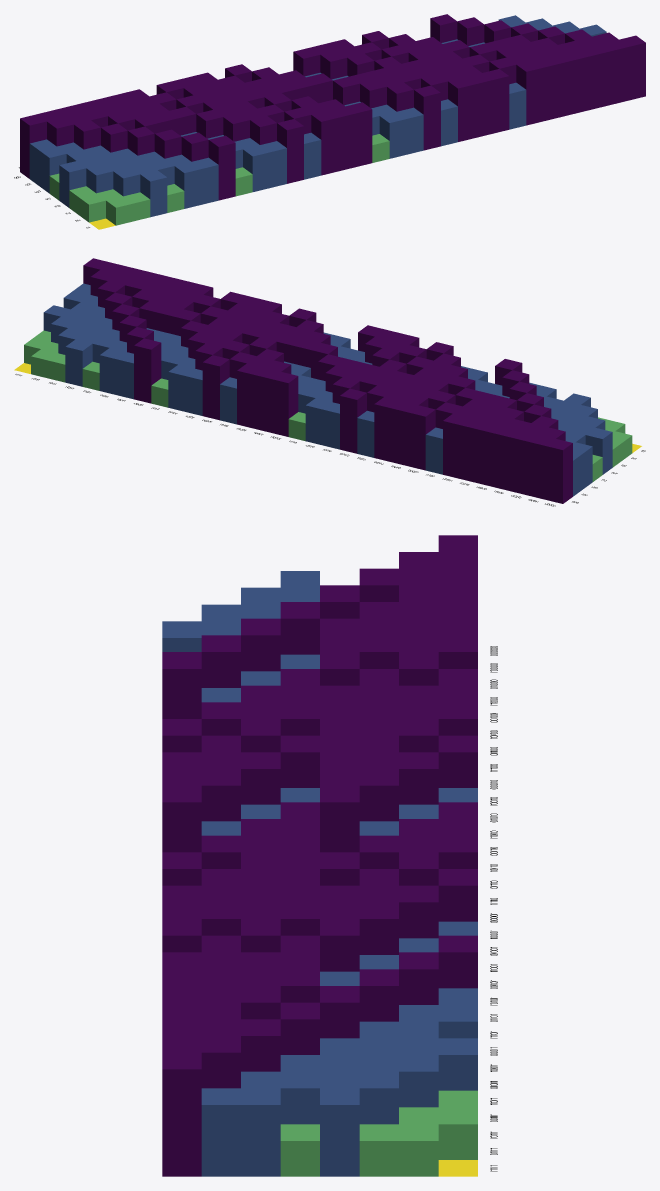
The picture shows the model from 3 angles, top to bottom: view 1: azimuth 30°, elevation 25°; view 2: azimuth 150°, elevation 25°; view 3: azimuth 270°, elevation 25°; orthographic projection. The views are drawn at different scales.
Visible parts, largest first — view 1: Object(14,8)[length_3], Object(8,8)[length_3], Object(26,8)[length_3], Object(20,8)[length_3], Object(12,8)[length_3], Object(22,8)[length_3], Object(15,8)[length_3], Object(27,8)[length_3], Object(24,8)[length_3], Object(29,8)[length_3], Object(31,8)[length_3], Object(16,8)[length_3] (+64 smaller); view 2: Object(1,1)[length_3], Object(17,1)[length_3], Object(25,1)[length_3], Object(9,1)[length_3], Object(21,1)[length_3], Object(13,1)[length_3], Object(10,1)[length_3], Object(3,1)[length_3], Object(18,1)[length_3], Object(19,1)[length_3], Object(2,1)[length_3], Object(4,1)[length_3] (+53 smaller); view 3: Object(32,8)[length_3], Object(32,4)[length_2], Object(32,6)[length_2], Object(32,7)[length_2], Object(16,4)[length_3], Object(16,8)[length_3], Object(8,8)[length_3], Object(6,6)[length_3], Object(22,2)[length_3], Object(25,1)[length_3], Object(31,3)[length_2], Object(31,5)[length_2] (+49 smaller).
Boxes of the visible parts, x1,y1,x2,y2 form: Object(14,8)[length_3]: [311, 110, 338, 175]; Object(8,8)[length_3]: [208, 135, 235, 200]; Object(26,8)[length_3]: [516, 60, 543, 125]; Object(20,8)[length_3]: [414, 85, 440, 150]; Object(12,8)[length_3]: [277, 119, 303, 183]; Object(22,8)[length_3]: [448, 77, 474, 141]; Object(15,8)[length_3]: [328, 106, 355, 171]; Object(27,8)[length_3]: [534, 56, 560, 121]; Object(24,8)[length_3]: [482, 69, 509, 133]; Object(29,8)[length_3]: [568, 48, 594, 112]; Object(31,8)[length_3]: [602, 39, 628, 104]; Object(16,8)[length_3]: [346, 102, 372, 167]; Object(1,1)[length_3]: [546, 439, 572, 503]; Object(17,1)[length_3]: [271, 372, 298, 436]; Object(25,1)[length_3]: [134, 338, 161, 403]; Object(9,1)[length_3]: [408, 405, 435, 470]; Object(21,1)[length_3]: [202, 355, 229, 420]; Object(13,1)[length_3]: [340, 388, 366, 453]; Object(10,1)[length_3]: [391, 401, 417, 466]; Object(3,1)[length_3]: [511, 430, 538, 495]; Object(18,1)[length_3]: [254, 367, 280, 432]; Object(19,1)[length_3]: [237, 363, 263, 428]; Object(2,1)[length_3]: [528, 434, 555, 499]; Object(4,1)[length_3]: [494, 426, 520, 491]; Object(32,8)[length_3]: [162, 1052, 201, 1176]; Object(32,4)[length_2]: [320, 1088, 359, 1176]; Object(32,6)[length_2]: [241, 1088, 280, 1176]; Object(32,7)[length_2]: [201, 1088, 240, 1176]; Object(16,4)[length_3]: [320, 785, 359, 852]; Object(16,8)[length_3]: [162, 785, 201, 852]; Object(8,8)[length_3]: [162, 652, 201, 718]; Object(6,6)[length_3]: [241, 618, 280, 671]; Object(22,2)[length_3]: [399, 885, 438, 938]; Object(25,1)[length_3]: [438, 935, 477, 988]; Object(31,3)[length_2]: [359, 1071, 398, 1124]; Object(31,5)[length_2]: [280, 1071, 319, 1124].
Size of the model in its own units: 32.6 by 3 by 8.5.
